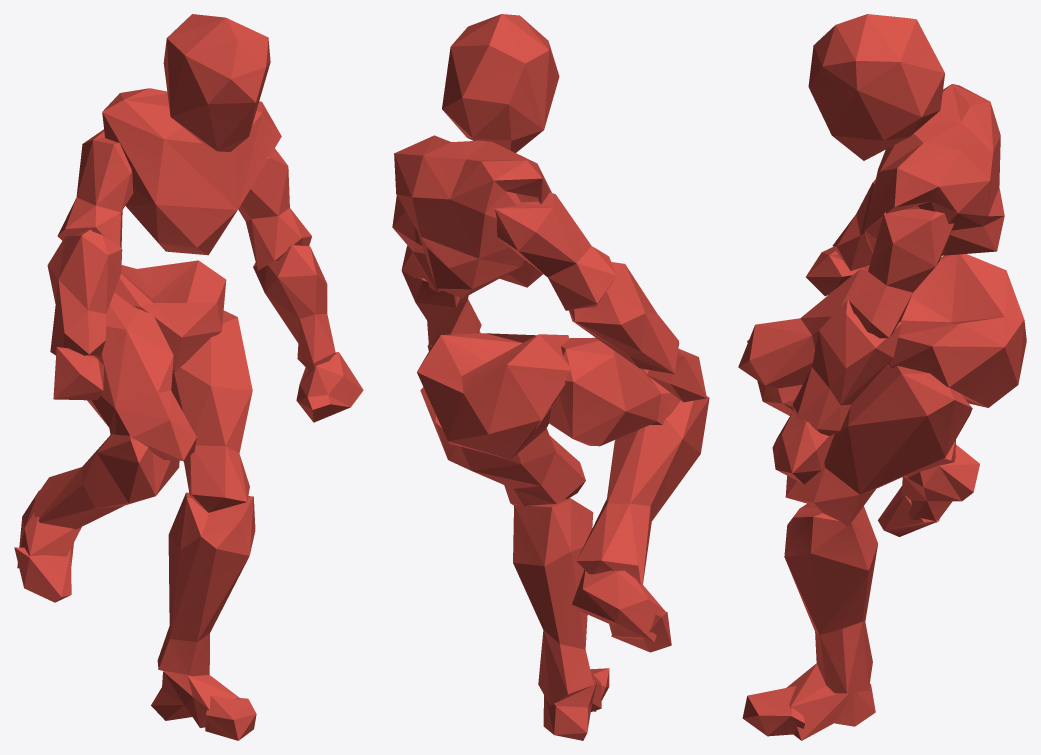
File: 2dancer0166.obj
The picture shows the model from 3 angles, left to right: view 1: azimuth 30°, elevation 25°; view 2: azimuth 150°, elevation 25°; view 3: azimuth 270°, elevation 25°; orthographic projection. The views are drawn at different scales.
Parts seen in each view (by area): view 1: Beta_Surface; view 2: Beta_Surface; view 3: Beta_Surface.
Boxes of the visible parts, box(x1,y1,x2,y2) form: Beta_Surface: box(14, 14, 363, 740); Beta_Surface: box(392, 14, 709, 740); Beta_Surface: box(738, 14, 1026, 740).
Bounding box in the file's own units: 0.779 × 1.76 × 0.6243.
